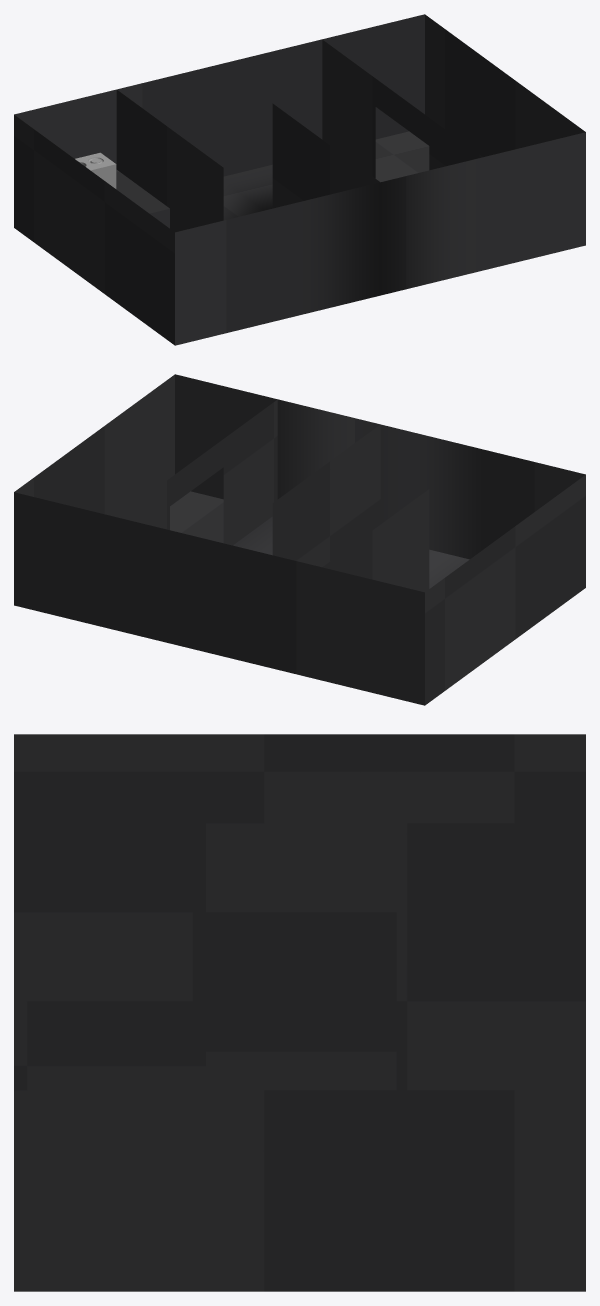
File: scenario-interacxr.glb
The picture shows the model from 3 angles, top to bottom: view 1: azimuth 30°, elevation 25°; view 2: azimuth 150°, elevation 25°; view 3: azimuth 270°, elevation 25°; orthographic projection. The views are drawn at different scales.
Visible parts, largest first — view 1: Plane, Cube; view 2: Plane; view 3: Plane.
Boxes of the visible parts, left/top/right/bottom form: Plane: left=14, top=14, right=585, bottom=345; Cube: left=75, top=152, right=116, bottom=188; Plane: left=14, top=374, right=585, bottom=705; Plane: left=14, top=734, right=585, bottom=1291.
Size of the model in its own units: 29.95 by 7.89 by 20.34.
Materials: 2 (1 with a texture image).
